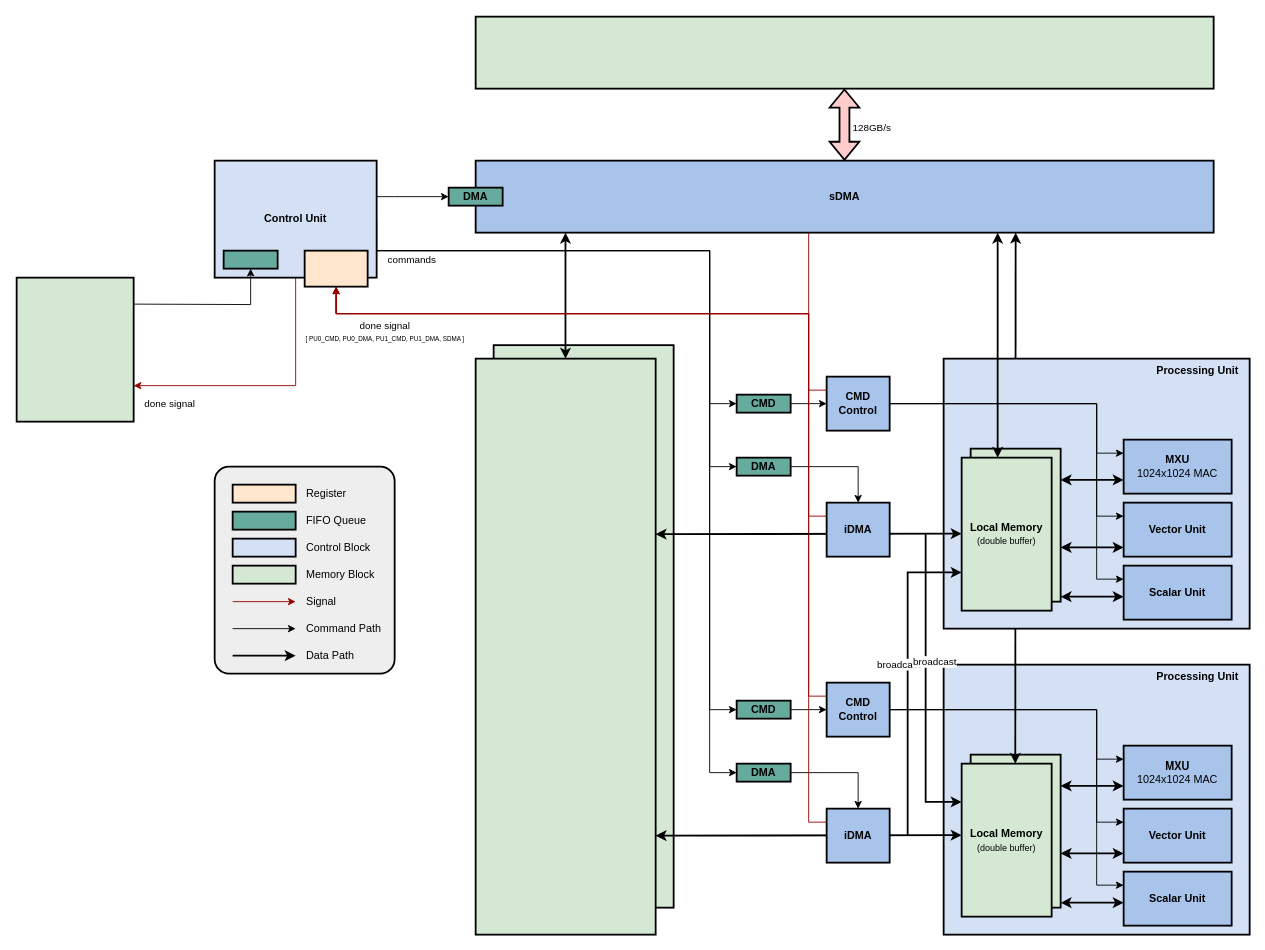
Image size: 1265x950. Some labels were removed from this diagram. Each missing label, with the centre of its shape:
Host Interface: point (74, 349)
Scratchpad Memory (double buffer): point (565, 646)
Status Registers: point (335, 268)
System Memory: point (844, 52)
VLIW: point (250, 259)
